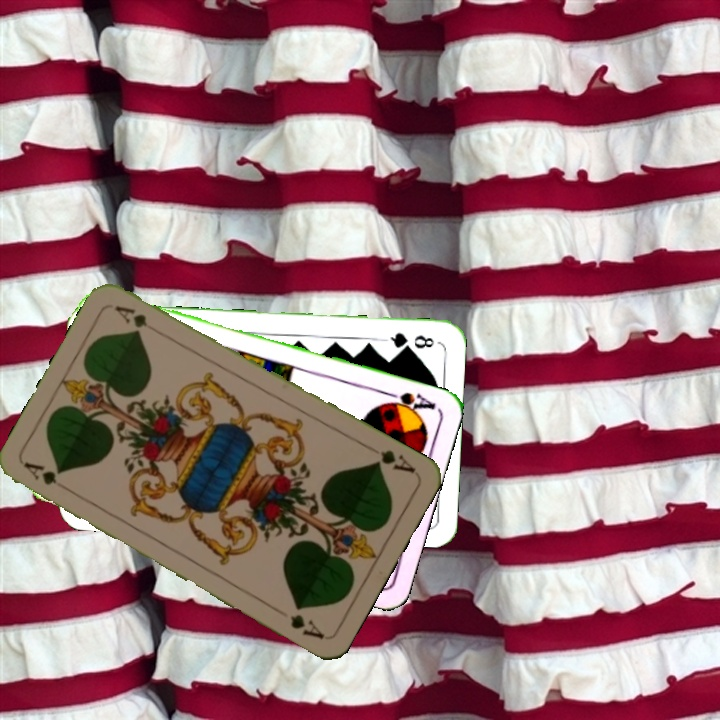G8: (381, 328, 437, 352)
GA: (20, 458, 74, 495), (364, 441, 419, 476)
SA: (377, 387, 438, 418)
